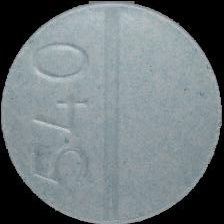0615-4504: (0, 0, 224, 224)
